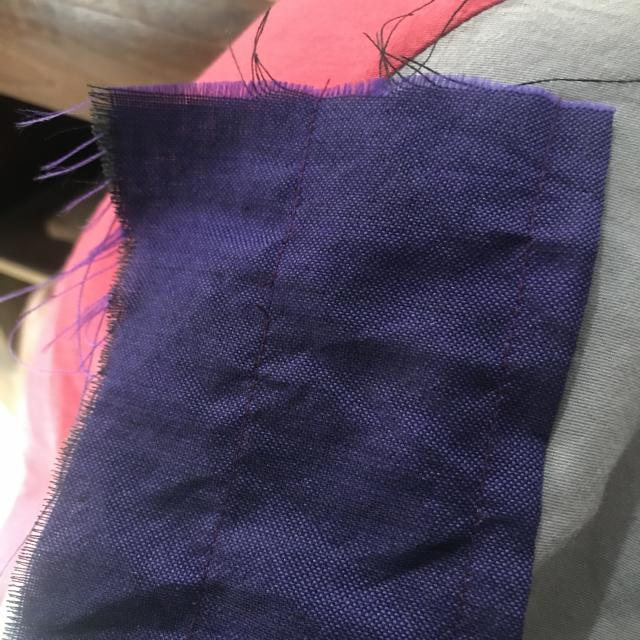broken: (232, 270, 300, 322)
